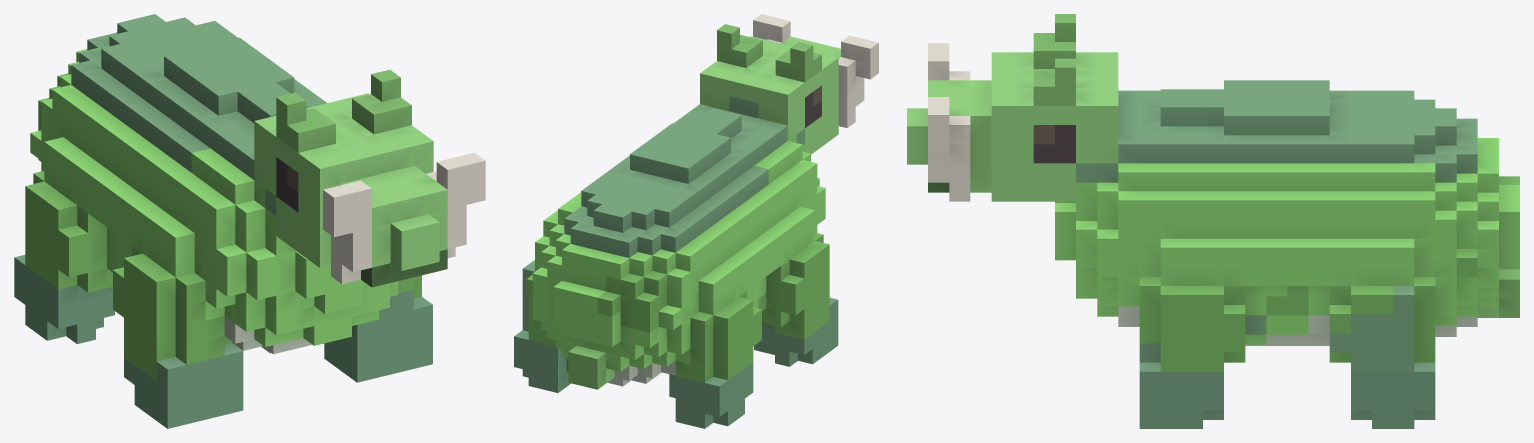
The model's file is boar-42-champion.glb.
The picture shows the model from 3 angles, left to right: view 1: azimuth 30°, elevation 25°; view 2: azimuth 150°, elevation 25°; view 3: azimuth 270°, elevation 25°; orthographic projection. The views are drawn at different scales.
Parts seen in each view (by area): view 1: body, head, legFL, legBL, legFR, ridge, crownTuskLeft, crownTuskRight, mossBudRight, mossBudLeft, eyeLeft; view 2: body, legBL, head, legFL, ridge, legBR, crownTuskLeft, mossBudRight, tailTip, mossBudLeft, crownTuskRight, neck (+1 smaller); view 3: body, head, legFR, legBR, ridge, crownTuskRight, mossBudRight, mossBudLeft, eyeRight, crownTuskLeft, tailTip.
Part boxes in pixels (x1,y1,x2,y2): body: [30, 14, 397, 354]; head: [254, 93, 447, 287]; legFL: [113, 246, 243, 428]; legBL: [14, 171, 114, 344]; legFR: [324, 275, 432, 382]; ridge: [164, 37, 294, 115]; crownTuskLeft: [323, 180, 371, 283]; crownTuskRight: [426, 152, 485, 258]; mossBudRight: [352, 69, 411, 134]; mossBudLeft: [276, 93, 335, 152]; eyeLeft: [276, 157, 298, 212]; body: [526, 104, 825, 386]; legBL: [669, 291, 761, 428]; head: [700, 36, 840, 154]; legFL: [754, 232, 838, 366]; ridge: [630, 123, 730, 183]; legBR: [514, 260, 570, 392]; crownTuskLeft: [838, 35, 878, 127]; mossBudRight: [717, 24, 762, 67]; tailTip: [568, 346, 605, 389]; mossBudLeft: [775, 42, 821, 82]; crownTuskRight: [753, 14, 790, 43]; neck: [729, 96, 804, 144]; body: [1055, 89, 1519, 345]; head: [907, 52, 1118, 201]; legFR: [1139, 277, 1266, 428]; legBR: [1329, 277, 1435, 428]; ridge: [1224, 80, 1329, 135]; crownTuskRight: [928, 97, 970, 201]; mossBudRight: [1033, 58, 1075, 105]; mossBudLeft: [1033, 14, 1075, 68]; eyeRight: [1033, 125, 1075, 163]; crownTuskLeft: [928, 43, 970, 80]; tailTip: [1499, 269, 1519, 317].
Size of the model in its own units: 0.63 by 0.765 by 1.3.
